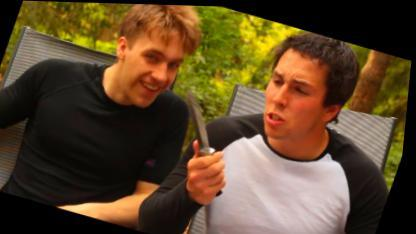knife: (158, 77, 258, 182)
